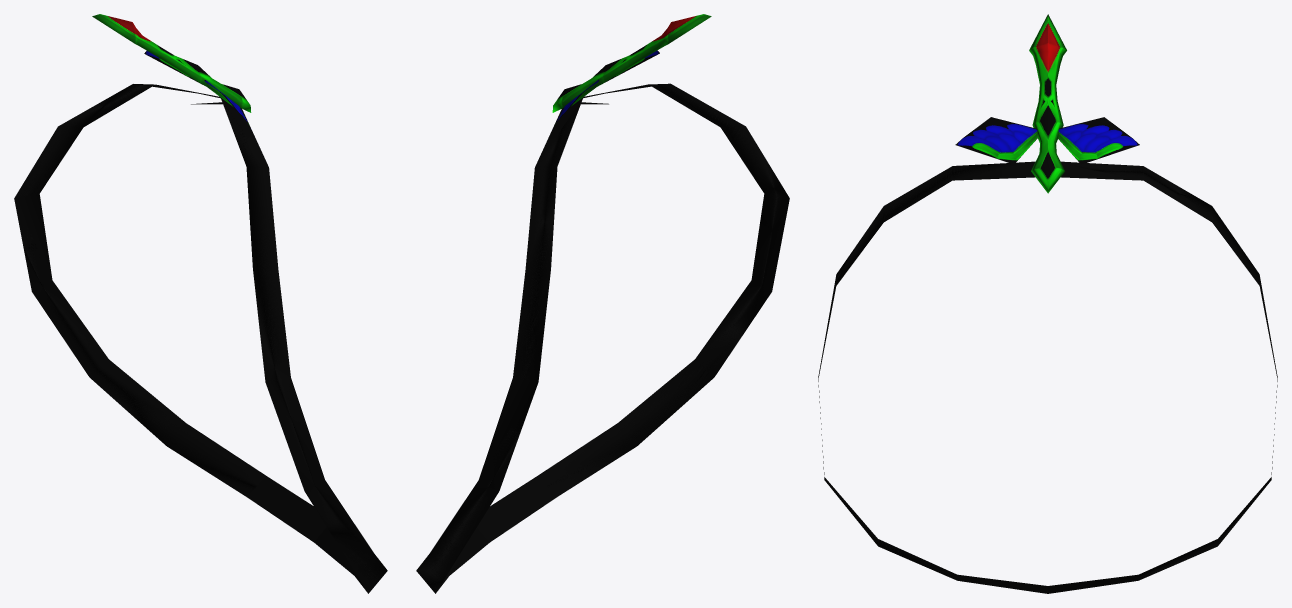
3 renders of one model, left to right at view 1: azimuth 30°, elevation 25°; view 2: azimuth 150°, elevation 25°; view 3: azimuth 270°, elevation 25°, orthographic. The views are drawn at different scales.
Parts seen in each view (by area): view 1: F1239; view 2: F1239; view 3: F1239.
Boxes of the visible parts, left/top/right/bottom form: F1239: left=14, top=14, right=387, bottom=593; F1239: left=416, top=14, right=789, bottom=593; F1239: left=818, top=14, right=1277, bottom=593.
Size of the model in its own units: 0.3119 by 0.7167 by 0.61.
